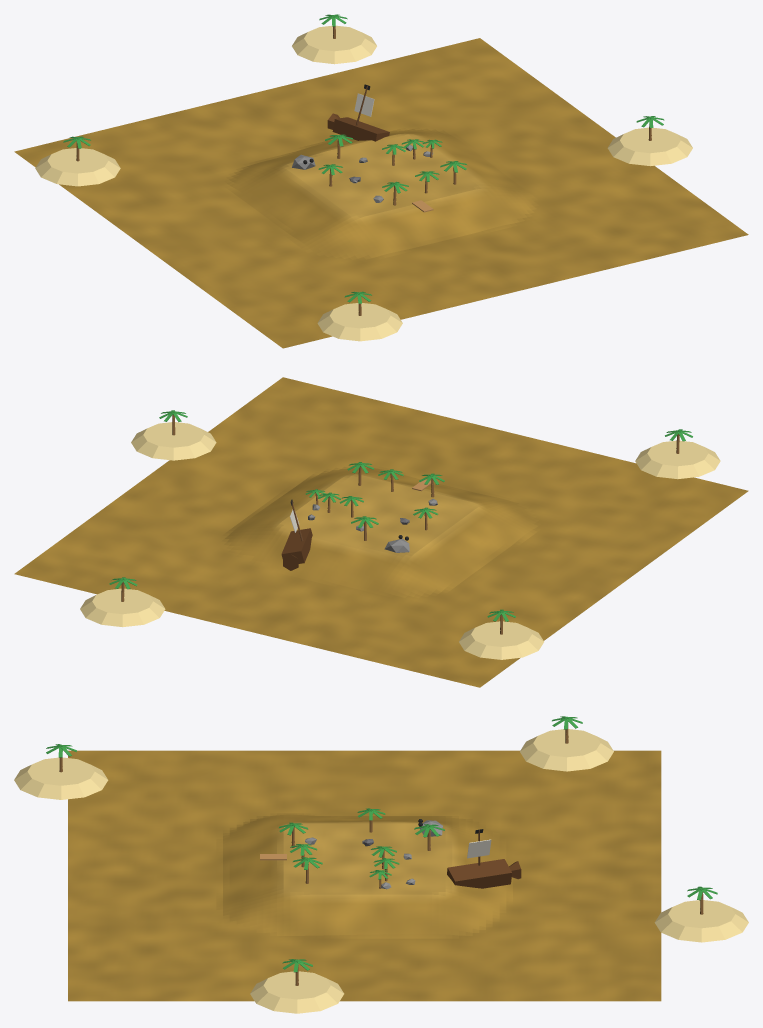
File: suoIsland.glb
The picture shows the model from 3 angles, top to bottom: view 1: azimuth 30°, elevation 25°; view 2: azimuth 150°, elevation 25°; view 3: azimuth 270°, elevation 25°; orthographic projection. The views are drawn at different scales.
Parts seen in each view (by area): view 1: terrain, sand, palmLeaf, shipWood, palmTrunk; view 2: terrain, sand, palmLeaf, shipWood, palmTrunk; view 3: terrain, sand, palmLeaf, shipWood, palmTrunk.
Boxes of the visible parts, x1,y1,x2,y2 form: terrain: (14,38,748,348); sand: (35,25,692,341); palmLeaf: (63,14,664,303); shipWood: (327,113,389,141); palmTrunk: (76,26,651,315); terrain: (14,377,748,687); sand: (80,422,720,659); palmLeaf: (109,410,692,621); shipWood: (281,528,312,570); palmTrunk: (121,415,679,634); terrain: (68,750,661,1001); sand: (14,729,748,1013); palmLeaf: (46,716,717,972); shipWood: (447,859,521,888); palmTrunk: (59,725,703,985).
Size of what is drawn, in the model's own units: 99 by 10.94 by 109.
